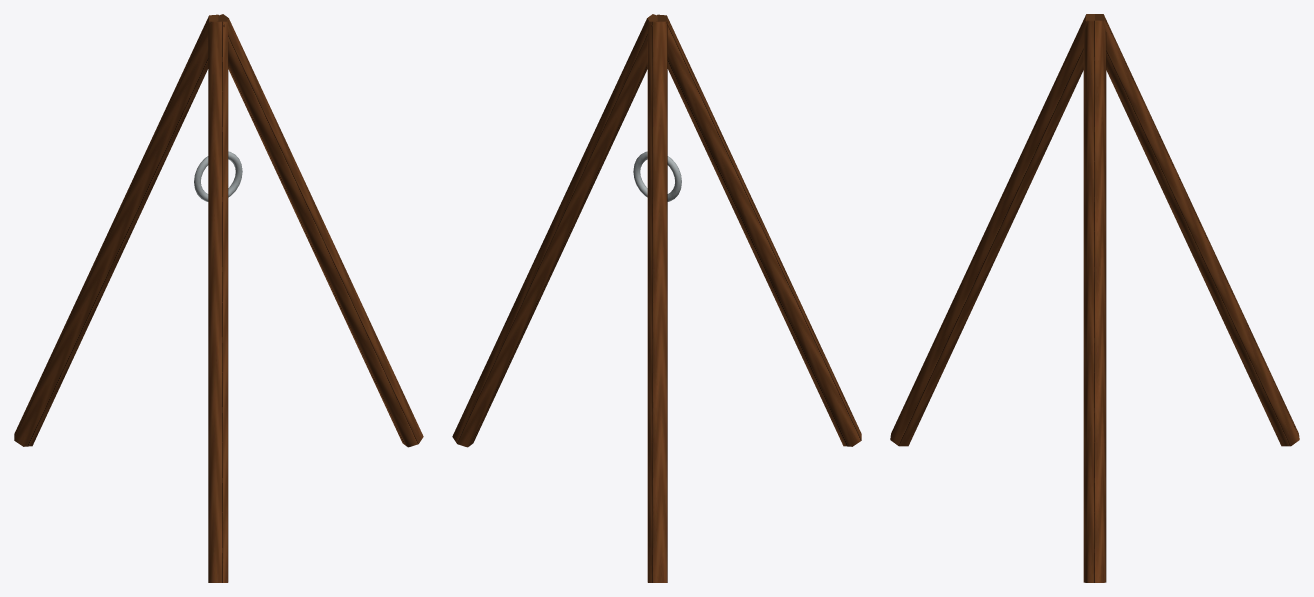
The model's file is wilderness-survival-camp-tripod-pot-hanger-4c4024c7__21951.glb.
The picture shows the model from 3 angles, left to right: view 1: azimuth 30°, elevation 25°; view 2: azimuth 150°, elevation 25°; view 3: azimuth 270°, elevation 25°; orthographic projection.
Parts seen in each view (by area): view 1: tripod-pot-hanger; view 2: tripod-pot-hanger; view 3: tripod-pot-hanger.
Boxes of the visible parts, <box> form: tripod-pot-hanger: <box>14,14,423,582</box>; tripod-pot-hanger: <box>452,14,861,582</box>; tripod-pot-hanger: <box>890,14,1299,582</box>.
Bounding box in the file's own units: 1.11 × 1.63 × 1.27.
Materials: 2 (1 with a texture image).
